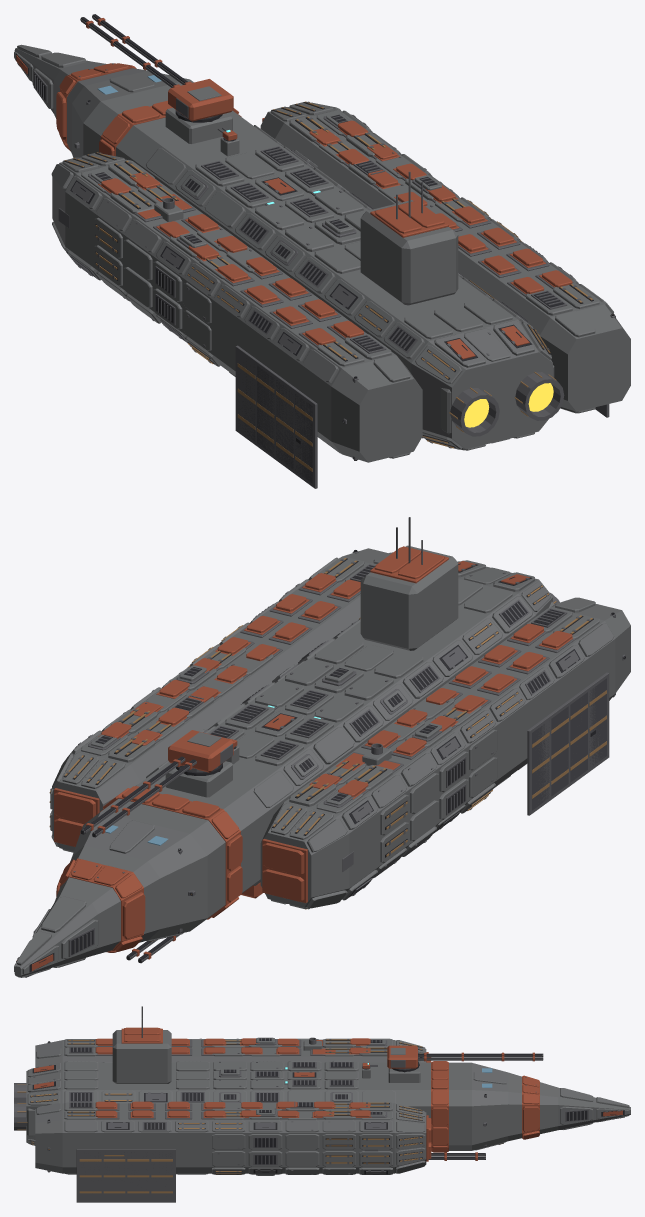
The model's file is mars_missile_cruiser_t5.glb.
3 views of the same model, one above another, from view 1: azimuth 30°, elevation 25°; view 2: azimuth 150°, elevation 25°; view 3: azimuth 270°, elevation 25° (orthographic). The views are drawn at different scales.
Parts seen in each view (by area): view 1: FleetHull, mesh_turret_gun_1, mesh_recoil_gun_1; view 2: FleetHull, mesh_turret_gun_1, mesh_recoil_gun_1; view 3: FleetHull, mesh_recoil_gun_1, mesh_turret_gun_1, mesh_recoil_gun_2.
Boxes of the visible parts, box(x1,y1,x2,y2) form: FleetHull: box(14, 44, 630, 488); mesh_turret_gun_1: box(168, 79, 233, 121); mesh_recoil_gun_1: box(80, 14, 191, 87); FleetHull: box(14, 517, 630, 977); mesh_turret_gun_1: box(168, 730, 233, 772); mesh_recoil_gun_1: box(80, 756, 196, 837); FleetHull: box(14, 1006, 630, 1202); mesh_recoil_gun_1: box(418, 1052, 543, 1061); mesh_turret_gun_1: box(387, 1045, 417, 1069); mesh_recoil_gun_2: box(428, 1152, 485, 1160).
Bounding box in the file's own units: 93.55 × 75.74 × 271.
